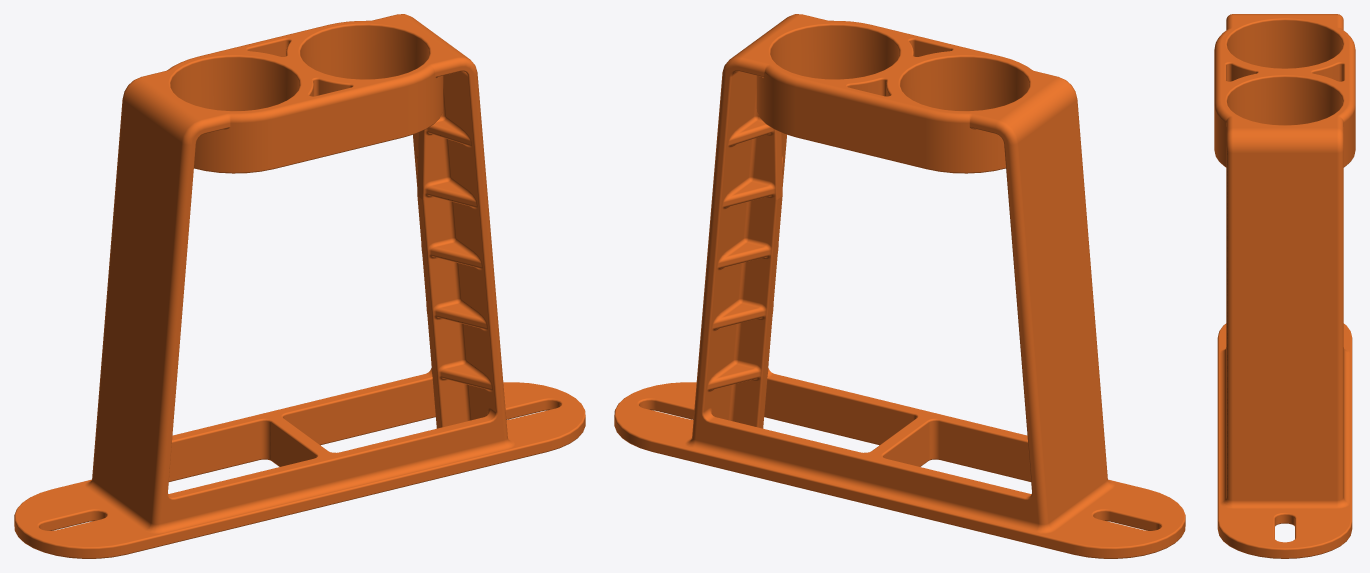
The picture shows the model from 3 angles, left to right: view 1: azimuth 30°, elevation 25°; view 2: azimuth 150°, elevation 25°; view 3: azimuth 270°, elevation 25°; orthographic projection. The views are drawn at different scales.
Visible parts, largest first — view 1: a-bridge-skel001; view 2: a-bridge-skel001; view 3: a-bridge-skel001.
Boxes of the visible parts, bbox=[...] form: a-bridge-skel001: bbox=[14, 14, 585, 558]; a-bridge-skel001: bbox=[614, 14, 1185, 558]; a-bridge-skel001: bbox=[1214, 14, 1355, 558].
Size of the model in its own units: 0.17 by 0.1205 by 0.042.
